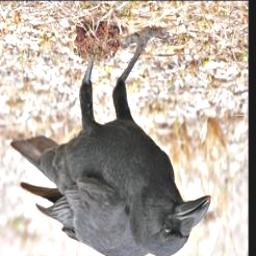Crow: (9, 28, 211, 256)
